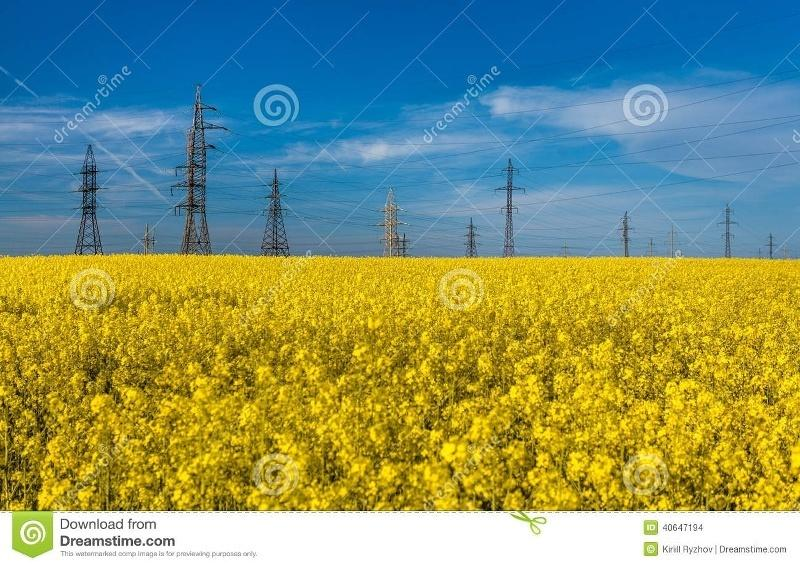power_tower: (173, 86, 237, 252), (65, 145, 106, 247), (254, 164, 292, 255), (494, 152, 521, 261), (375, 187, 404, 256)
